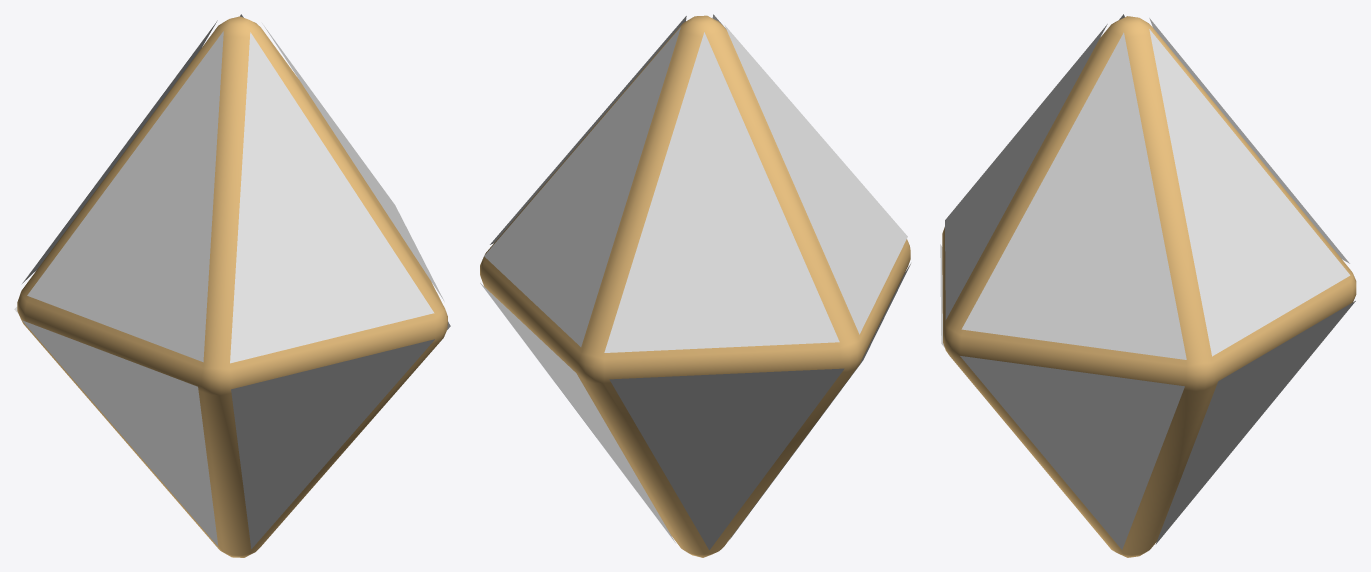
The model's file is dice10.fbx.
3 renders of one model, left to right at view 1: azimuth 30°, elevation 25°; view 2: azimuth 150°, elevation 25°; view 3: azimuth 270°, elevation 25°, orthographic.
Visible parts, largest first — view 1: Cylinder.001; view 2: Cylinder.001; view 3: Cylinder.001.
Part boxes in pixels (bbox=[...]): Cylinder.001: bbox=[14, 14, 450, 557]; Cylinder.001: bbox=[480, 14, 910, 557]; Cylinder.001: bbox=[940, 14, 1356, 557].
Size of the model in its own units: 183 by 246 by 174.
